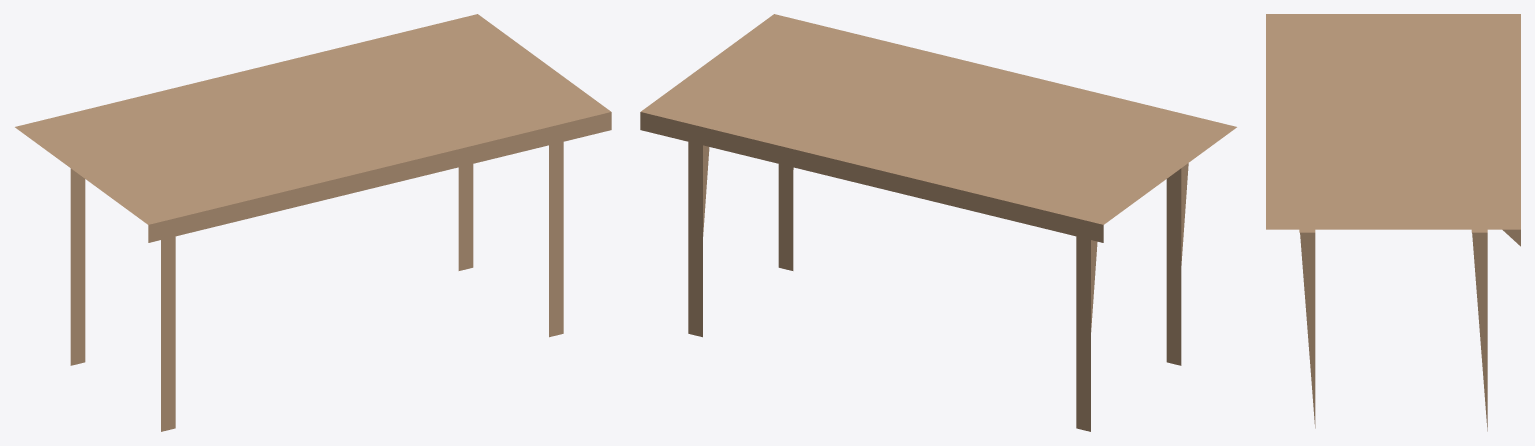
The model's file is banquet-table.glb.
3 views of the same model, side by side, from view 1: azimuth 30°, elevation 25°; view 2: azimuth 150°, elevation 25°; view 3: azimuth 270°, elevation 25° (orthographic). The views are drawn at different scales.
Bounding box in the file's own units: 1.6 × 0.75 × 0.8.
